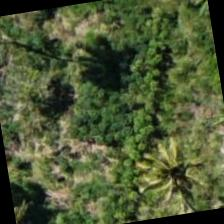Kelapa_Sawit: (123, 121, 223, 222)
